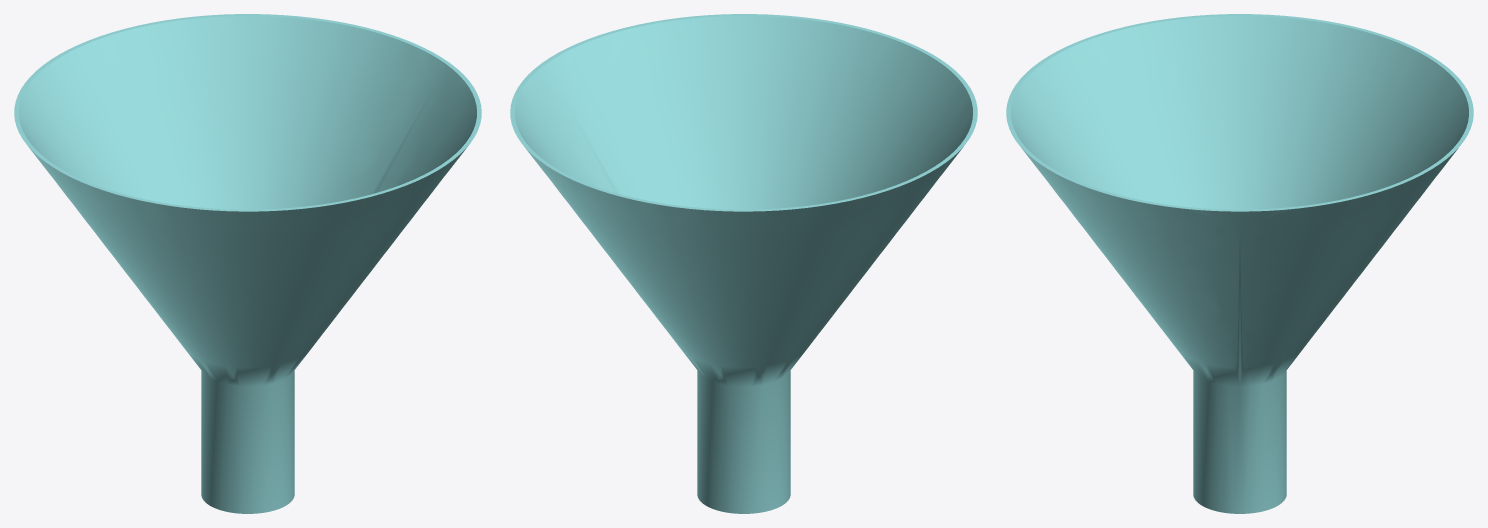
File: embudo.fbx
3 renders of one model, left to right at view 1: azimuth 30°, elevation 25°; view 2: azimuth 150°, elevation 25°; view 3: azimuth 270°, elevation 25°, orthographic.
Parts seen in each view (by area): view 1: Object_2; view 2: Object_2; view 3: Object_2.
Boxes of the visible parts, x1,y1,x2,y2 form: Object_2: (14,14,481,513); Object_2: (510,14,977,513); Object_2: (1006,14,1473,513).
Size of the model in its own units: 5000 by 4500 by 4997.
